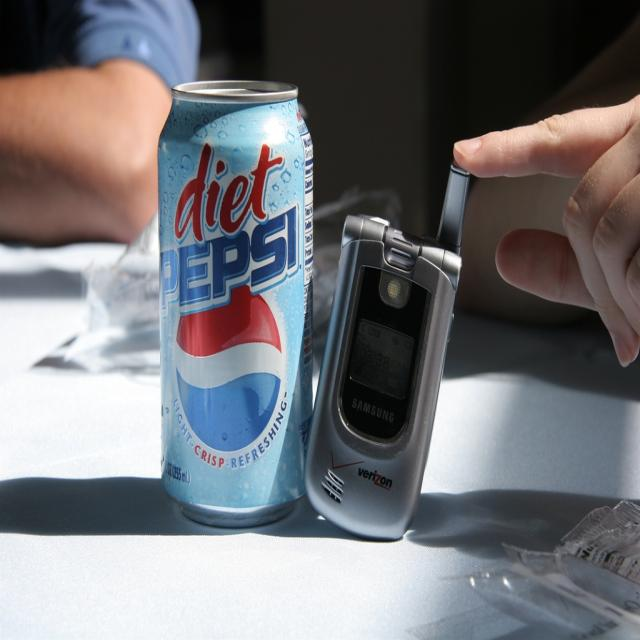pepsi: (170, 284, 290, 455)
